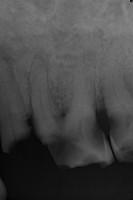Endo-Periodontal Lesion: (55, 106, 69, 119)
Furcation Involvement: (0, 42, 10, 65)
